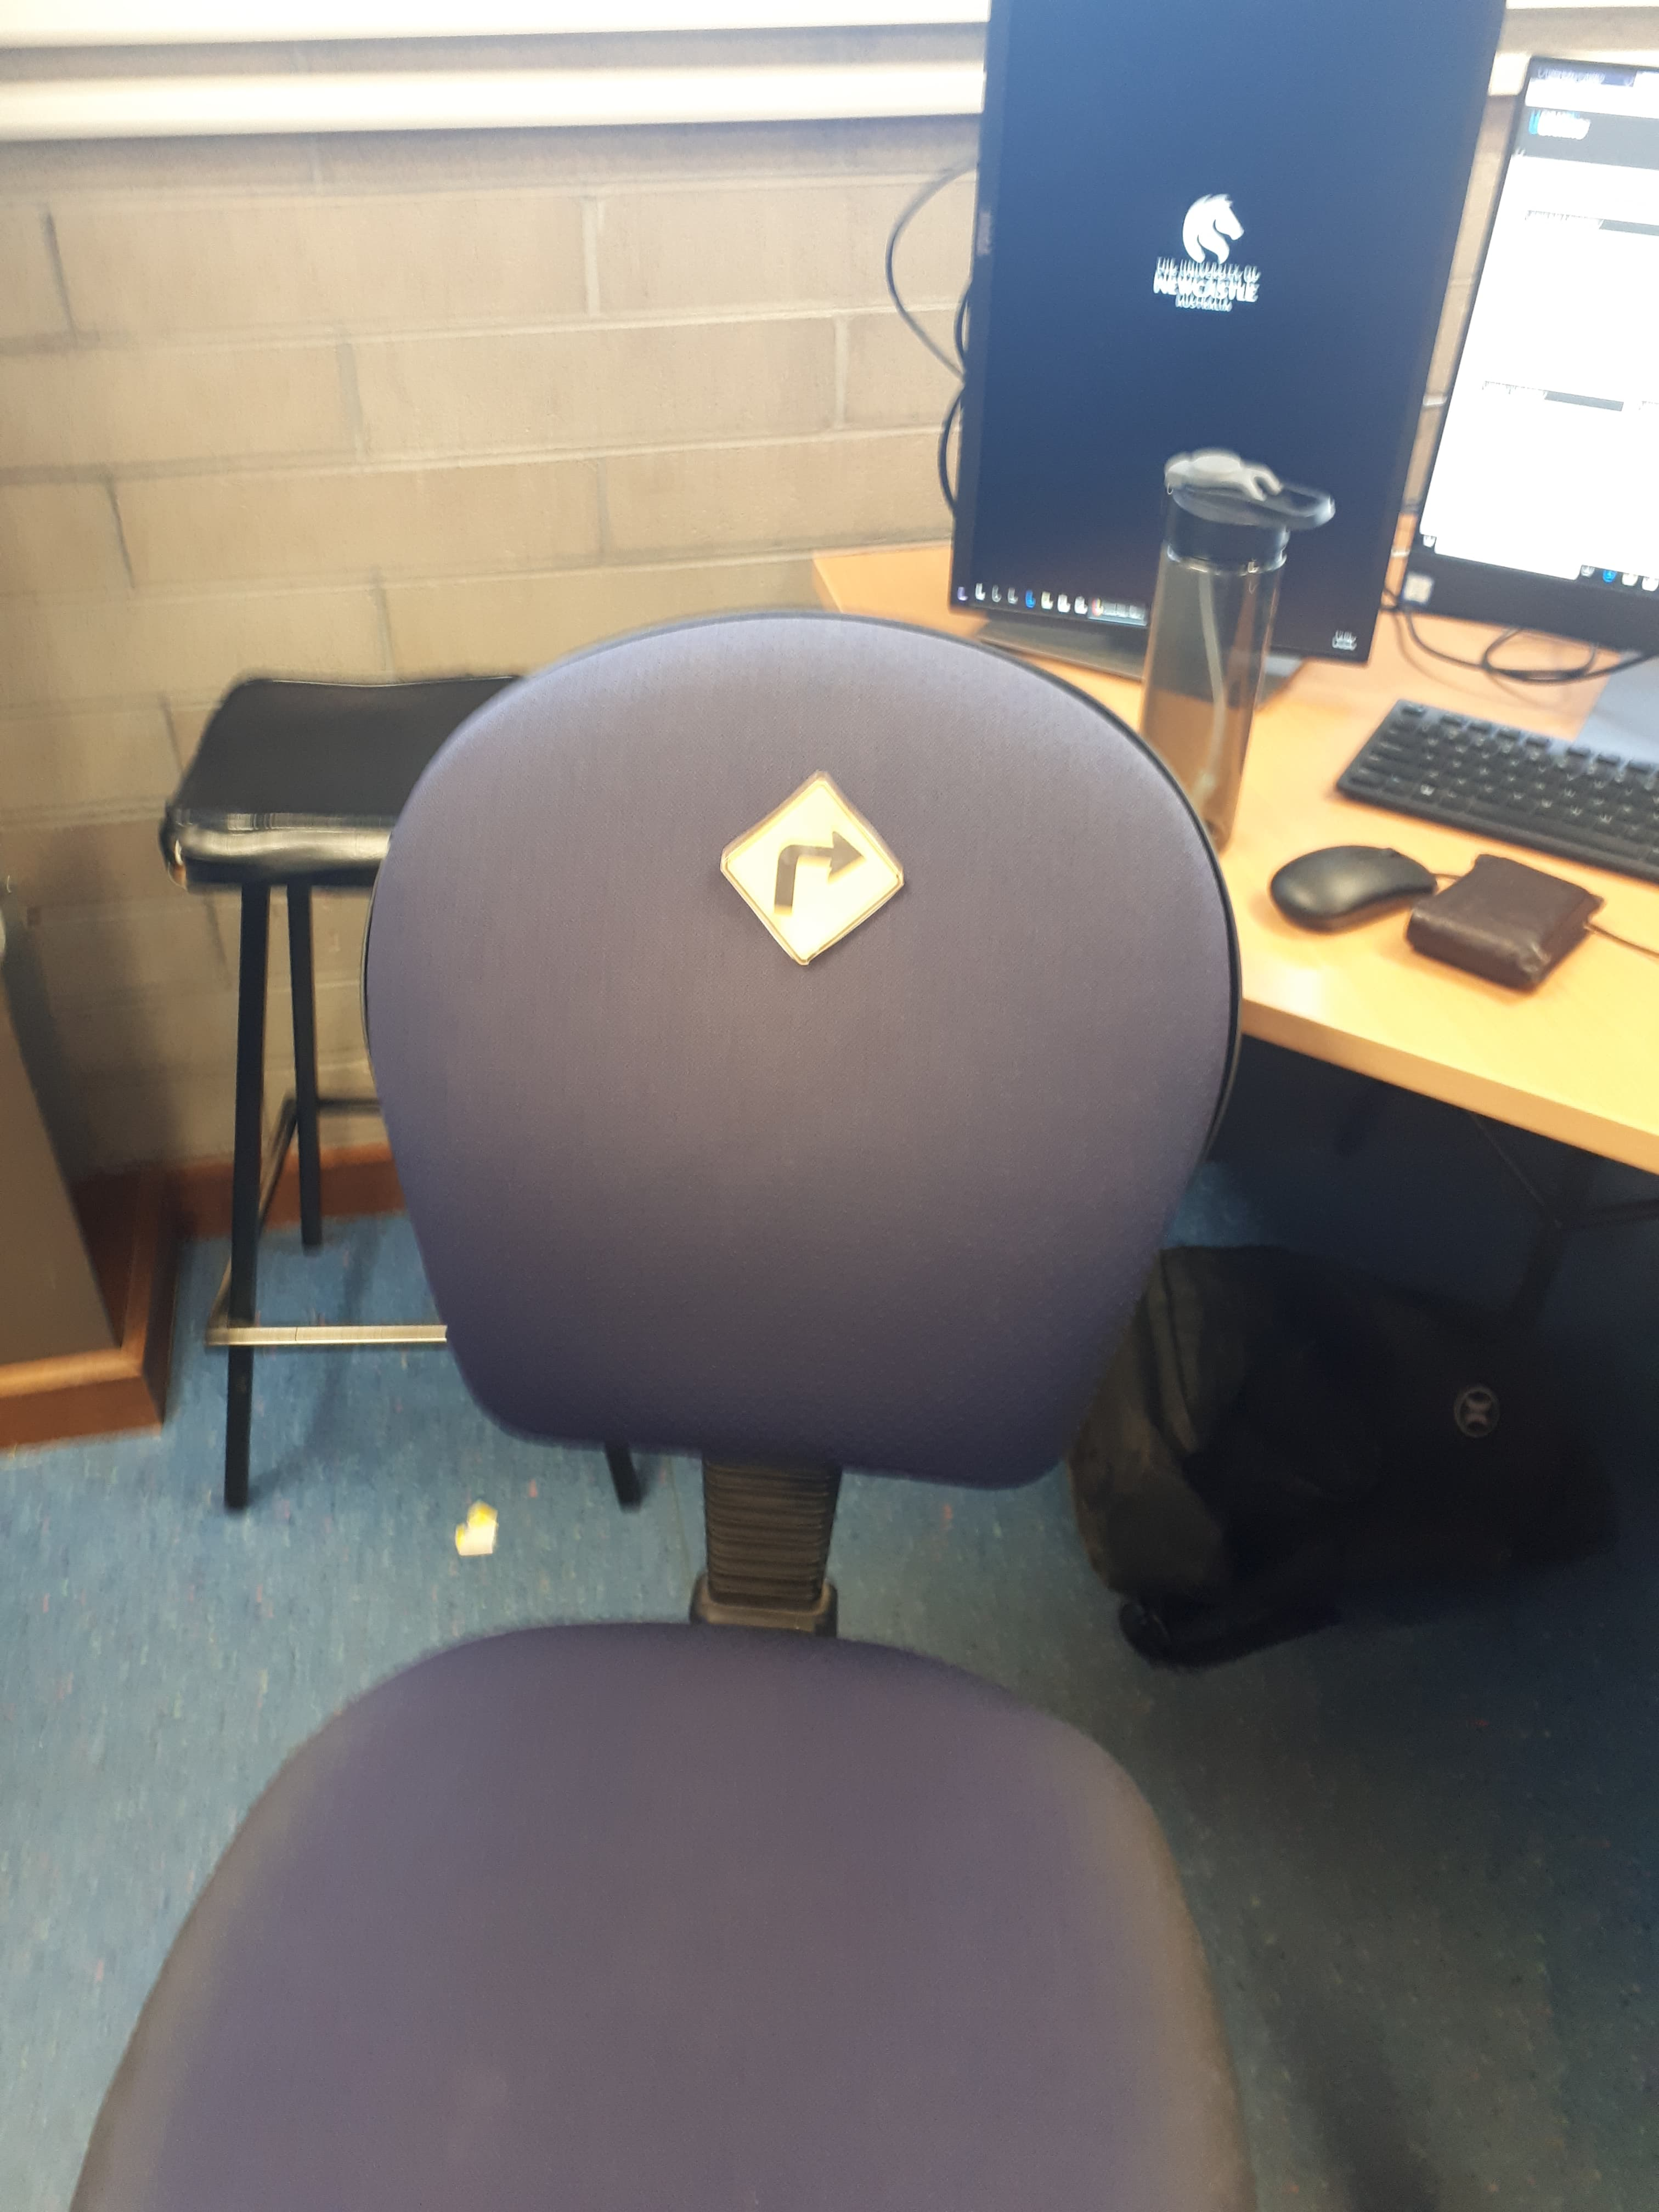right: (666, 758, 945, 958), (767, 817, 887, 904), (812, 831, 904, 890)
